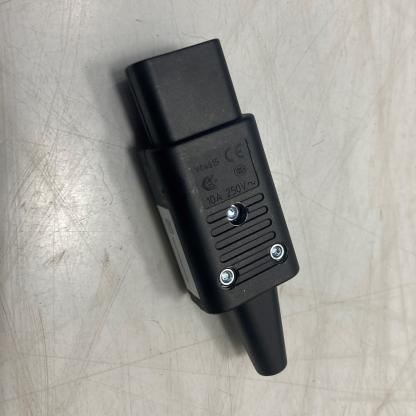SP0000006: (95, 12, 377, 410)
